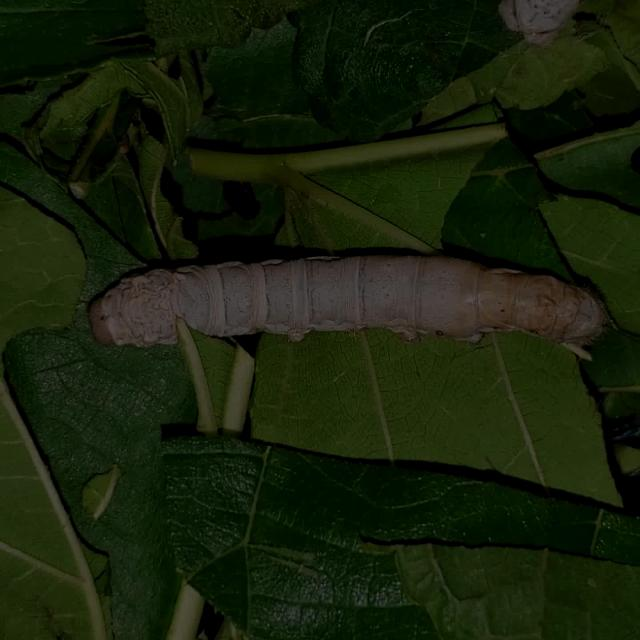Grasserie: (64, 230, 640, 405)
